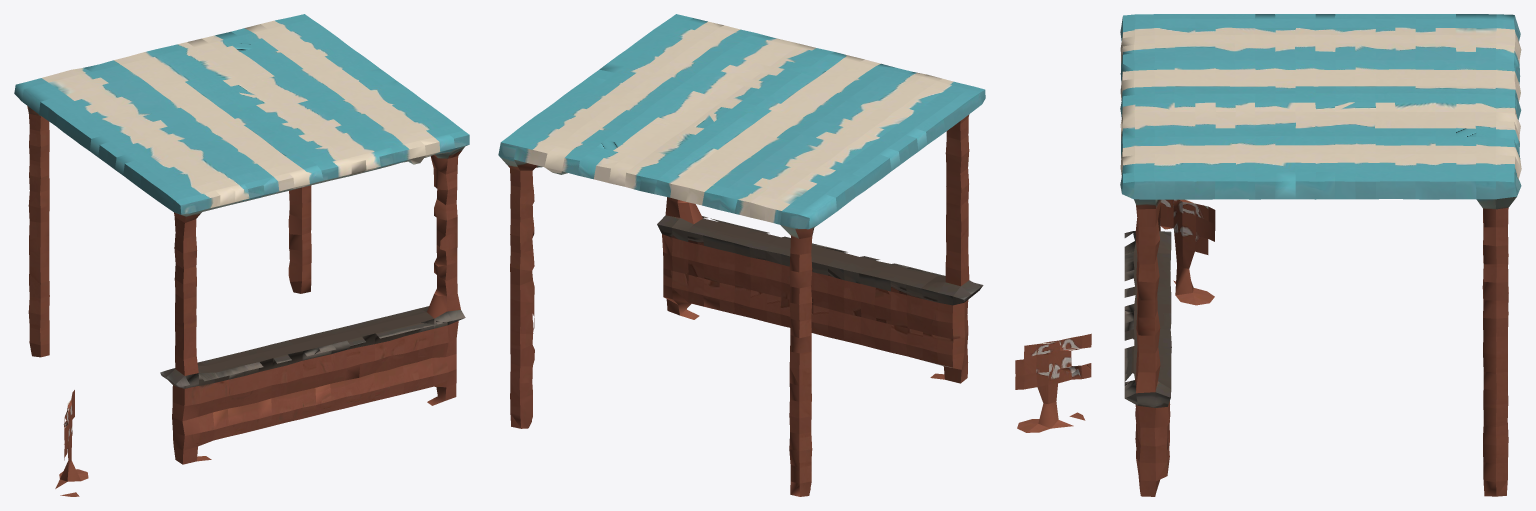
The model's file is puesto_20261019_142723.glb.
3 renders of one model, left to right at view 1: azimuth 30°, elevation 25°; view 2: azimuth 150°, elevation 25°; view 3: azimuth 270°, elevation 25°, orthographic. The views are drawn at different scales.
Visible parts, largest first — view 1: puesto; view 2: puesto; view 3: puesto.
Boxes of the visible parts, x1=… form: puesto: x1=14, y1=14, x2=469, y2=496; puesto: x1=498, y1=14, x2=1091, y2=496; puesto: x1=1120, y1=14, x2=1521, y2=496.
Size of the model in its own units: 0.9789 by 0.6488 by 0.7143.
Materials: 1 (1 with a texture image).
